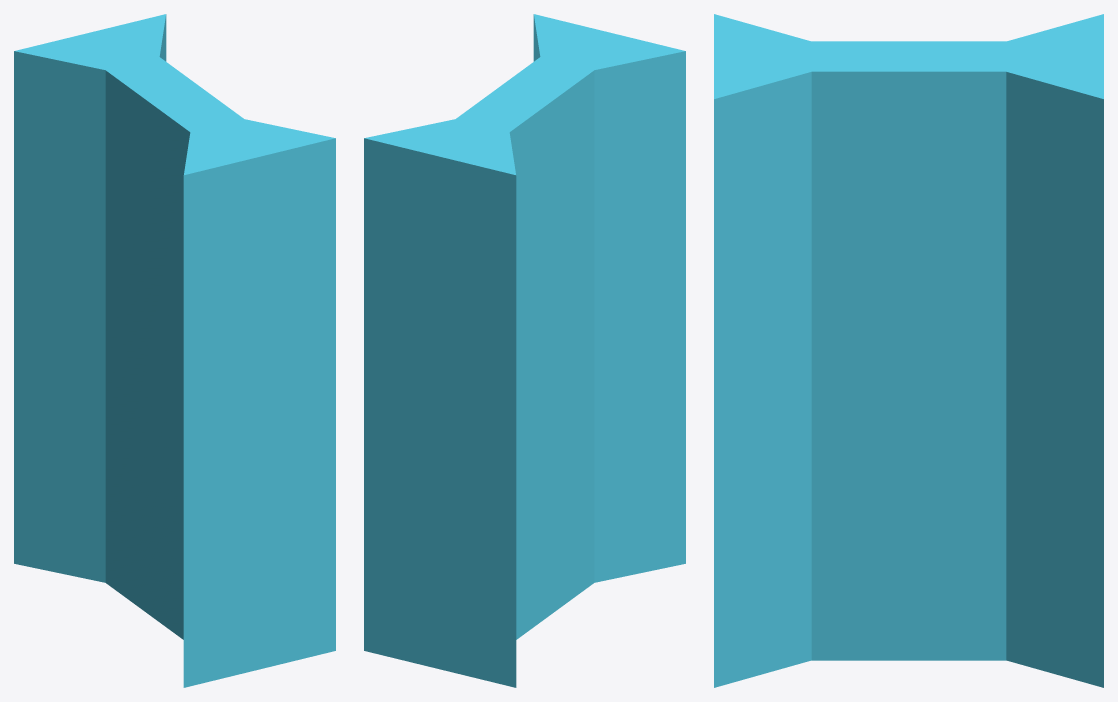
The model's file is wall3.fbx.
3 renders of one model, left to right at view 1: azimuth 30°, elevation 25°; view 2: azimuth 150°, elevation 25°; view 3: azimuth 270°, elevation 25°, orthographic. The views are drawn at different scales.
Parts seen in each view (by area): view 1: [wall3][thick][long]; view 2: [wall3][thick][long]; view 3: [wall3][thick][long].
Part boxes in pixels (x1,y1,x2,y2): [wall3][thick][long]: (14,14,335,687); [wall3][thick][long]: (364,14,685,687); [wall3][thick][long]: (714,14,1103,687).
Size of the model in its own units: 217 by 700 by 420.
